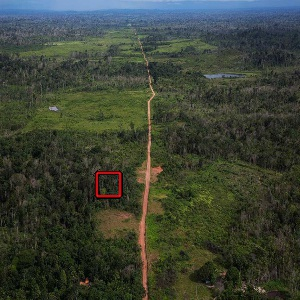square: (93, 169, 123, 199)
